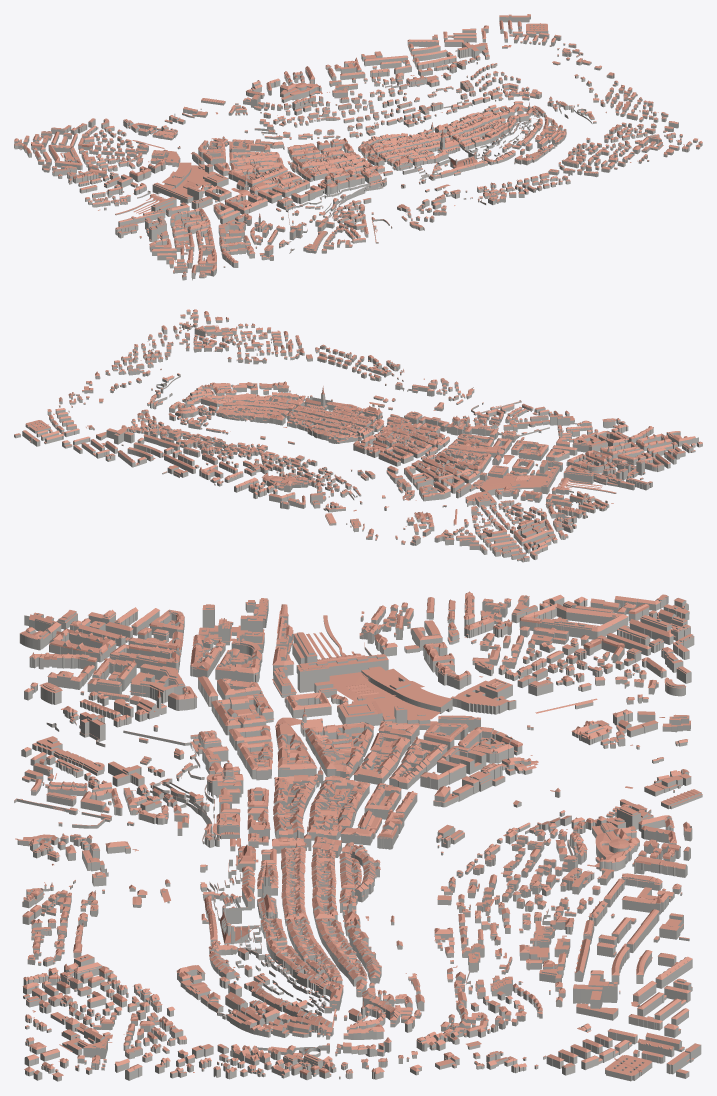
The model's file is central_lod2.glb.
3 renders of one model, top to bottom at view 1: azimuth 30°, elevation 25°; view 2: azimuth 150°, elevation 25°; view 3: azimuth 270°, elevation 25°, orthographic. The views are drawn at different scales.
Parts seen in each view (by area): view 1: swissBUILDINGS3D_central_LOD2; view 2: swissBUILDINGS3D_central_LOD2; view 3: swissBUILDINGS3D_central_LOD2.
Boxes of the visible parts, x1=… form: swissBUILDINGS3D_central_LOD2: x1=14, y1=14, x2=702, y2=280; swissBUILDINGS3D_central_LOD2: x1=14, y1=309, x2=702, y2=562; swissBUILDINGS3D_central_LOD2: x1=14, y1=591, x2=702, y2=1081.
Size of the model in its own units: 2252 by 144 by 1352.
